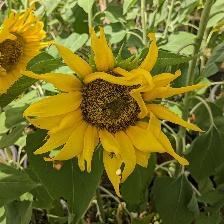sunflower: (53, 46, 183, 174)
